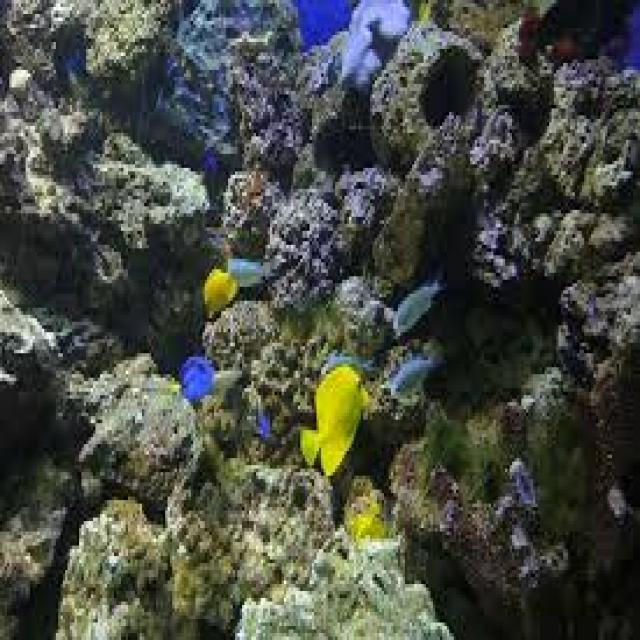YellowTang: (296, 362, 372, 474), (197, 264, 246, 322), (350, 501, 396, 549)
